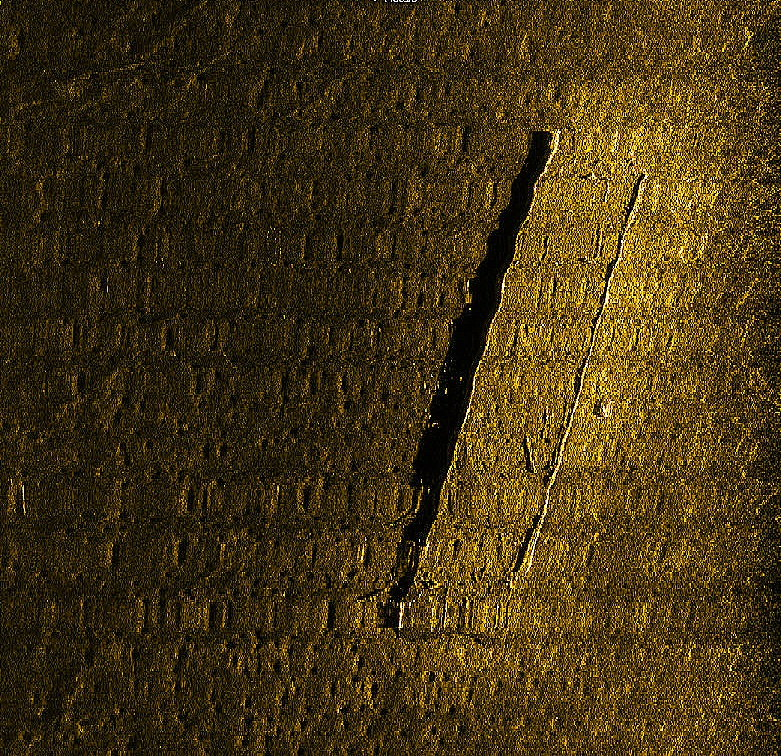ship: (393, 126, 648, 642)
